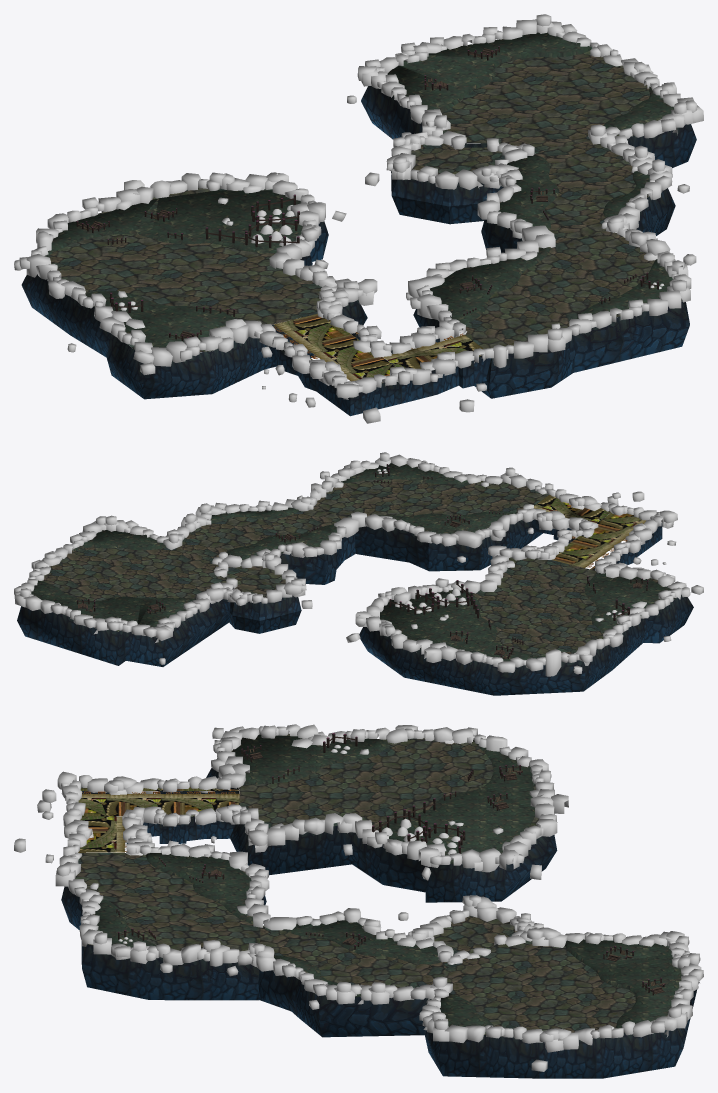
File: thebot_door_3.FBX
3 views of the same model, one above another, from view 1: azimuth 30°, elevation 25°; view 2: azimuth 150°, elevation 25°; view 3: azimuth 270°, elevation 25° (orthographic). The views are drawn at different scales.
Parts seen in each view (by area): view 1: shitou01, dimian1, yanbi, dimian2, qiao, huawen; view 2: shitou01, dimian1, yanbi, dimian2, qiao, huawen; view 3: shitou01, dimian1, yanbi, dimian2, qiao, huawen.
Part boxes in pixels (left/top/right/bottom): shitou01: left=14, top=14, right=703, bottom=423; dimian1: left=46, top=51, right=681, bottom=351; yanbi: left=21, top=86, right=696, bottom=416; dimian2: left=44, top=32, right=673, bottom=353; qiao: left=273, top=313, right=483, bottom=382; huawen: left=76, top=46, right=658, bottom=341; shitou01: left=14, top=452, right=703, bottom=676; dimian1: left=41, top=471, right=676, bottom=656; yanbi: left=17, top=495, right=693, bottom=695; dimian2: left=31, top=463, right=671, bottom=661; qiao: left=534, top=495, right=645, bottom=569; huawen: left=77, top=464, right=648, bottom=659; shitou01: left=14, top=724, right=703, bottom=1071; dimian1: left=75, top=733, right=668, bottom=1034; yanbi: left=61, top=758, right=698, bottom=1078; dimian2: left=93, top=735, right=682, bottom=1033; qiao: left=78, top=787, right=239, bottom=852; huawen: left=116, top=733, right=665, bottom=995.
Bounding box in the file's own units: 2498 × 2184 × 209.
